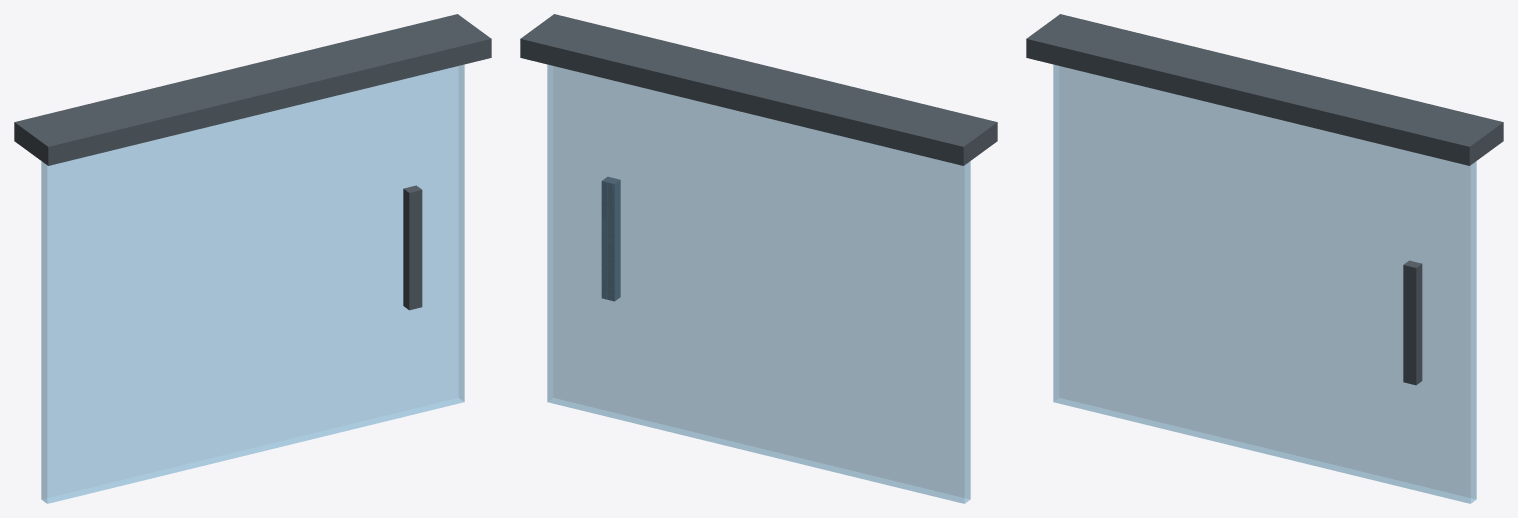
Rendered from door.glass_office_door.glb.
The picture shows the model from 3 angles, left to right: view 1: azimuth 30°, elevation 25°; view 2: azimuth 150°, elevation 25°; view 3: azimuth 330°, elevation 25°; orthographic projection.
Visible parts, largest first — view 1: glass_door, door_frame, handle_bar; view 2: glass_door, door_frame, handle_bar; view 3: glass_door, door_frame, handle_bar.
Boxes of the visible parts, x1,y1,x2,y2 form: glass_door: [41, 64, 464, 503]; door_frame: [14, 14, 491, 165]; handle_bar: [403, 185, 422, 310]; glass_door: [547, 64, 970, 503]; door_frame: [520, 14, 997, 165]; handle_bar: [601, 177, 620, 301]; glass_door: [1053, 64, 1476, 503]; door_frame: [1026, 14, 1503, 165]; handle_bar: [1403, 260, 1422, 385].
Bounding box in the file's own units: 3.4 × 2.71 × 0.45.
